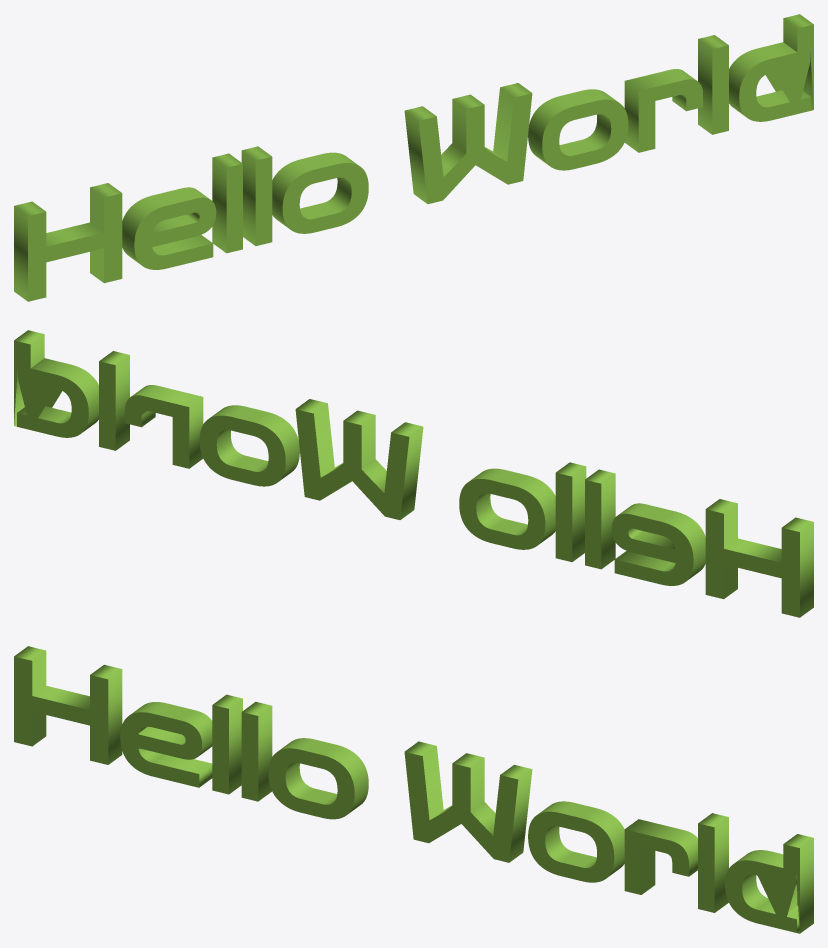
The model's file is hello_world_green.dae.
3 renders of one model, top to bottom at view 1: azimuth 30°, elevation 25°; view 2: azimuth 150°, elevation 25°; view 3: azimuth 330°, elevation 25°, orthographic.
Visible parts, largest first — view 1: Text; view 2: Text; view 3: Text.
Boxes of the visible parts, x1=… form: Text: x1=14, y1=14, x2=813, y2=301; Text: x1=14, y1=330, x2=813, y2=617; Text: x1=14, y1=646, x2=813, y2=933.
Bounding box in the file's own units: 5.79 × 0.18 × 0.6076.
